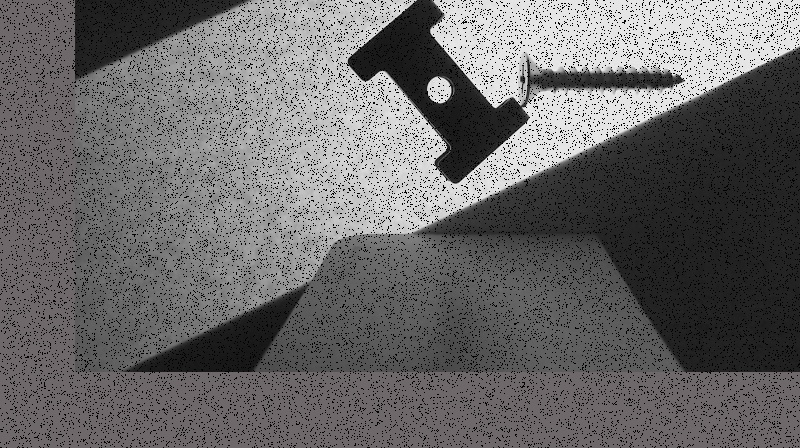O002: (344, 0, 526, 183)
S001: (520, 50, 685, 105)
